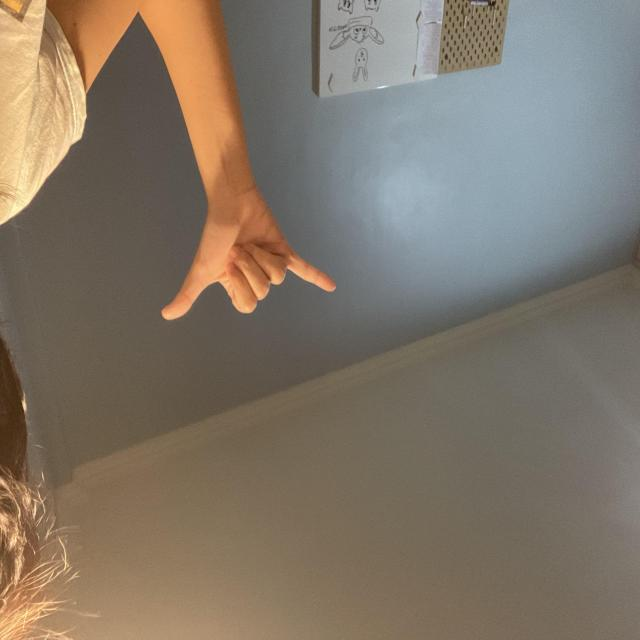Y: (304, 320, 479, 452)
